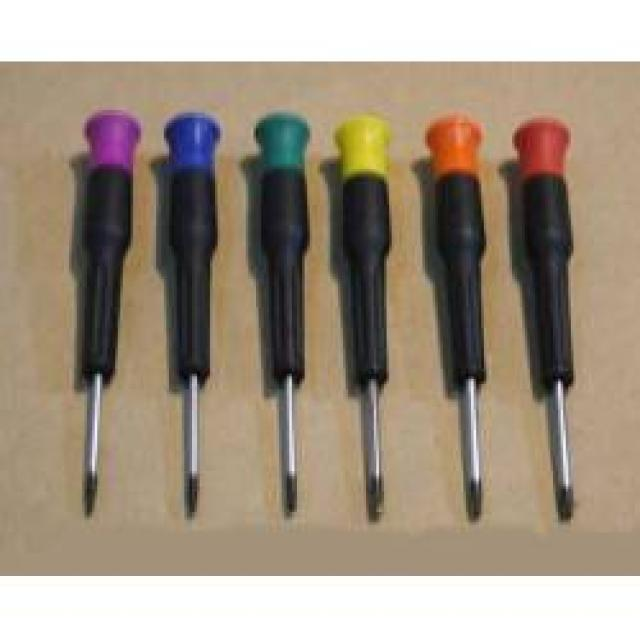screw_driver: (335, 114, 390, 518), (255, 112, 310, 516)
